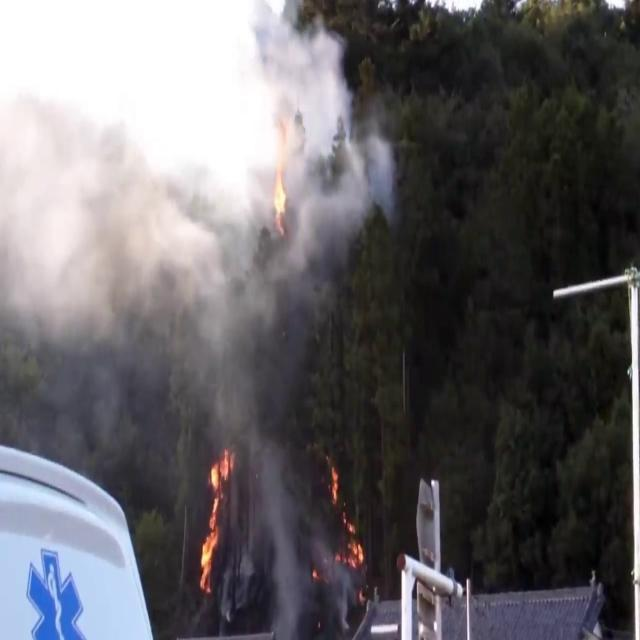Fire: (194, 441, 237, 598), (324, 455, 367, 567), (270, 158, 290, 234)
Smoke: (0, 0, 387, 457)
